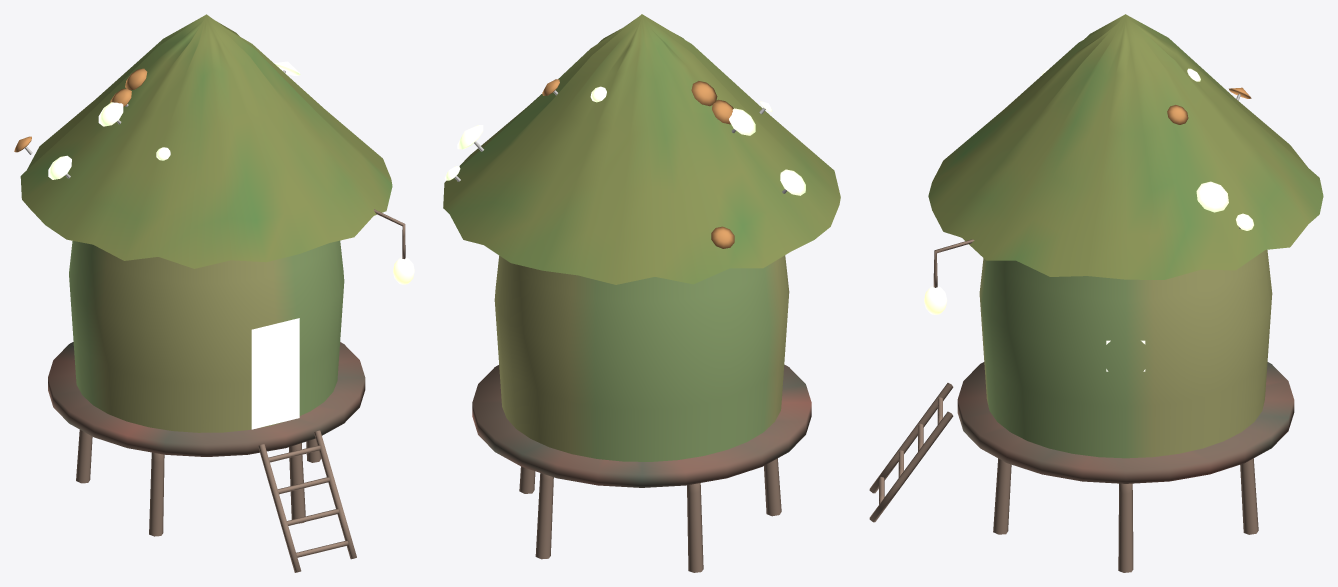
File: stilt_hut.glb
The picture shows the model from 3 angles, left to right: view 1: azimuth 30°, elevation 25°; view 2: azimuth 150°, elevation 25°; view 3: azimuth 270°, elevation 25°; orthographic projection. The views are drawn at different scales.
Visible parts, largest first — view 1: StiltHut; view 2: StiltHut; view 3: StiltHut.
Boxes of the visible parts, x1,y1,x2,y2 form: StiltHut: (14, 14, 414, 572); StiltHut: (443, 14, 840, 572); StiltHut: (869, 14, 1323, 572).
Bounding box in the file's own units: 4.05 × 5.66 × 4.65.
